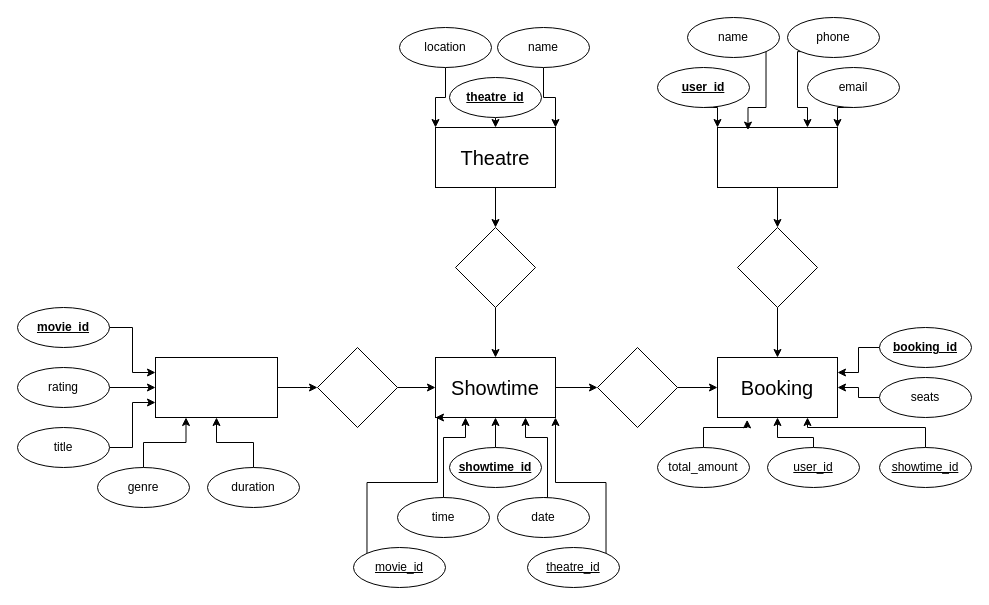
Some shapes in this 989 by 605 pixel diagram are drawn without their labels. Each missing label, with the centre of its shape:
"books" belongs at [777,267].
"Has" belongs at [357,387].
"is booked in" belongs at [637,387].
"Movie" belongs at [216,387].
"Plays" belongs at [495,267].
"User" belongs at [777,157].
